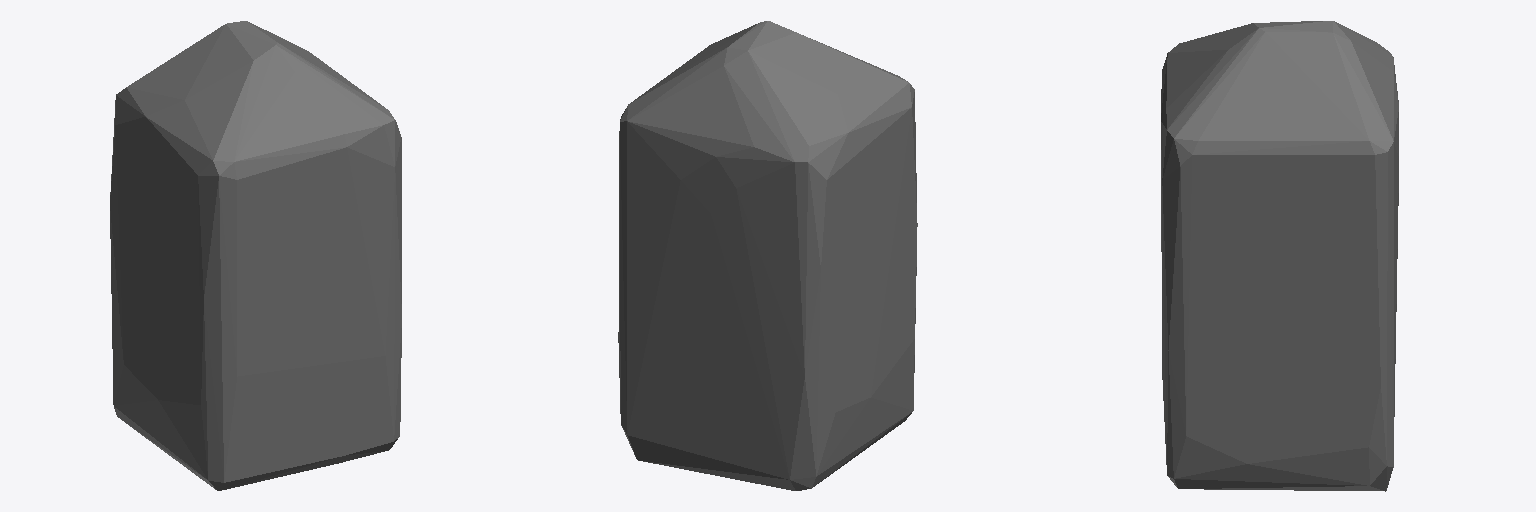
The robot description file, URDF, robot "tetra_pak_009":
<?xml version="1.0" ?>
<robot name="tetra_pak_009">
  <material name="color">
    <color rgba=".5 .5 .5 1"/>
  </material>

  <link name="base_link">
    <contact>
      <lateral_friction value="1.0"/>
      <rolling_friction value="0.001"/>
      <spinning_friction value="0.001"/>
      <inertia_scaling value="1.0"/>
    </contact>
    <inertial>
      <origin rpy="0 0 0" xyz="4.895e-05 0.000151248 -0.0175557"/>
       <mass value="0.1"/>
       <inertia ixx="1" ixy="0" ixz="0" iyy="1" iyz="0" izz="1"/>
    </inertial>

    <visual>
      <origin rpy="0 0 0" xyz="0 0 0"/>
      <geometry>
        <mesh filename="tetra_pak_009_vhacd_0_of_1.obj" scale="1 1 1"/>
      </geometry>
      <material name="color"/>
    </visual>

    <collision>
      <origin rpy="0 0 0" xyz="0 0 0"/>
      <geometry>
        <mesh filename="tetra_pak_009_vhacd_0_of_1.obj" scale="1 1 1"/>
      </geometry>
    </collision>

  </link>
</robot>

--- Render facts (derived) ---
The picture shows the robot from 3 angles, left to right: view 1: azimuth 30°, elevation 25°; view 2: azimuth 150°, elevation 25°; view 3: azimuth 270°, elevation 25°; orthographic projection.
Model tetra_pak_009 with 1 links and 0 joints (none), rooted at base_link, posed all joints at 0.
Links seen in each view (by area): view 1: base_link; view 2: base_link; view 3: base_link.
Link boxes in pixels (x1,y1,x2,y2): base_link: (110, 21, 401, 490); base_link: (618, 21, 917, 490); base_link: (1161, 21, 1398, 491).
Size in the robot's own frame: 0.0836 by 0.0817 by 0.1619 metres.
Meshes: 1 distinct files referenced, 1 mesh visuals loaded (1 OBJ).